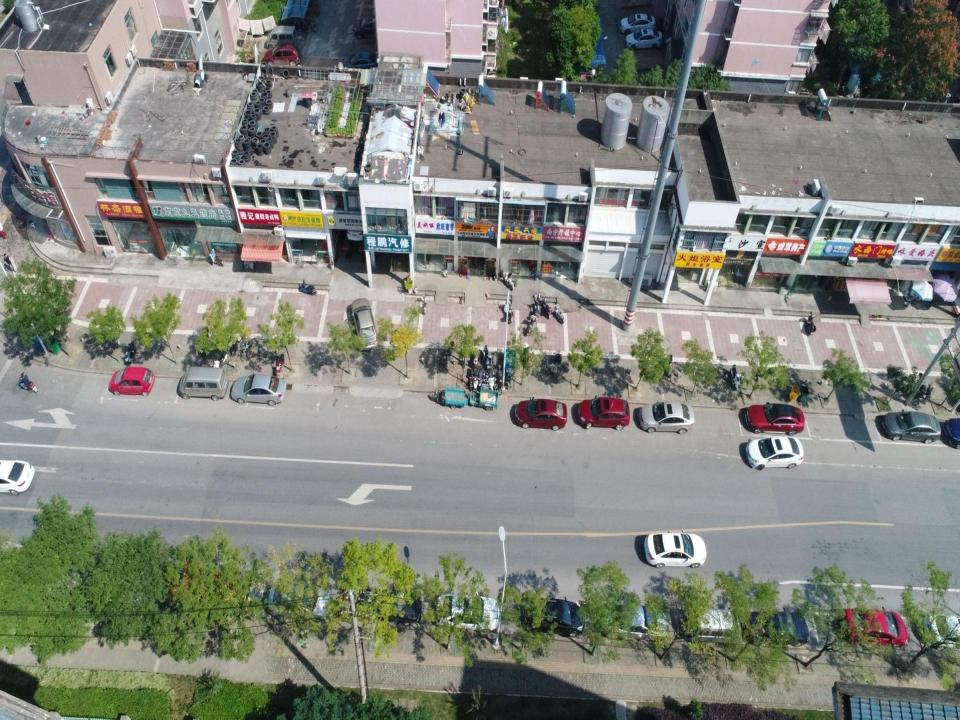car: (517, 597, 585, 638), (267, 581, 333, 623), (842, 607, 908, 649), (435, 592, 500, 634), (601, 602, 669, 642), (643, 529, 707, 568), (745, 611, 809, 647), (744, 435, 804, 471), (881, 410, 942, 445), (745, 402, 805, 436), (638, 400, 695, 435), (576, 395, 630, 431), (230, 372, 286, 406), (370, 590, 422, 626), (514, 397, 567, 431), (920, 613, 960, 651), (350, 297, 378, 351), (108, 366, 155, 398), (0, 458, 36, 497), (352, 14, 388, 40), (625, 27, 663, 51), (264, 43, 301, 67), (618, 12, 655, 35), (340, 51, 379, 70), (942, 417, 960, 449)
van: (687, 608, 743, 645), (178, 365, 228, 402), (266, 24, 298, 50)
